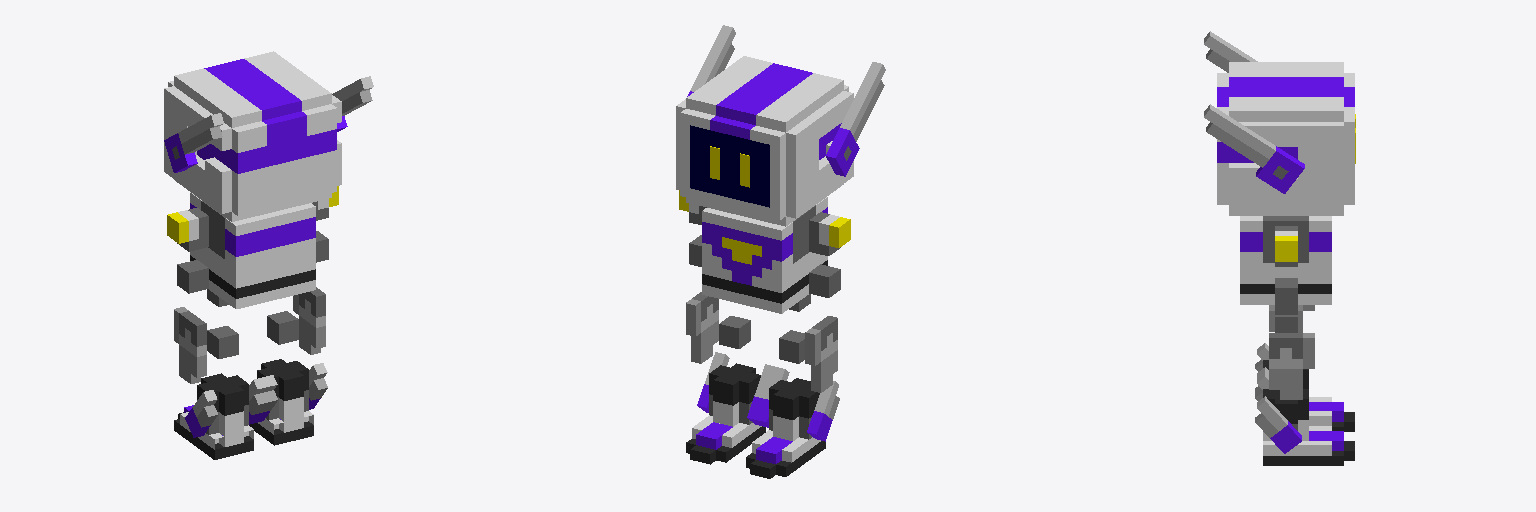
3 views of the same model, side by side, from view 1: azimuth 30°, elevation 25°; view 2: azimuth 150°, elevation 25°; view 3: azimuth 270°, elevation 25° (orthographic).
Parts seen in each view (by area): view 1: cube; view 2: cube; view 3: cube.
Boxes of the visible parts, x1,y1,x2,y2 form: cube: [164, 51, 373, 459]; cube: [676, 25, 885, 478]; cube: [1204, 31, 1354, 465].
Bounding box in the file's own units: 1 × 2.23 × 0.8298.
Materials: 1 (1 with a texture image).